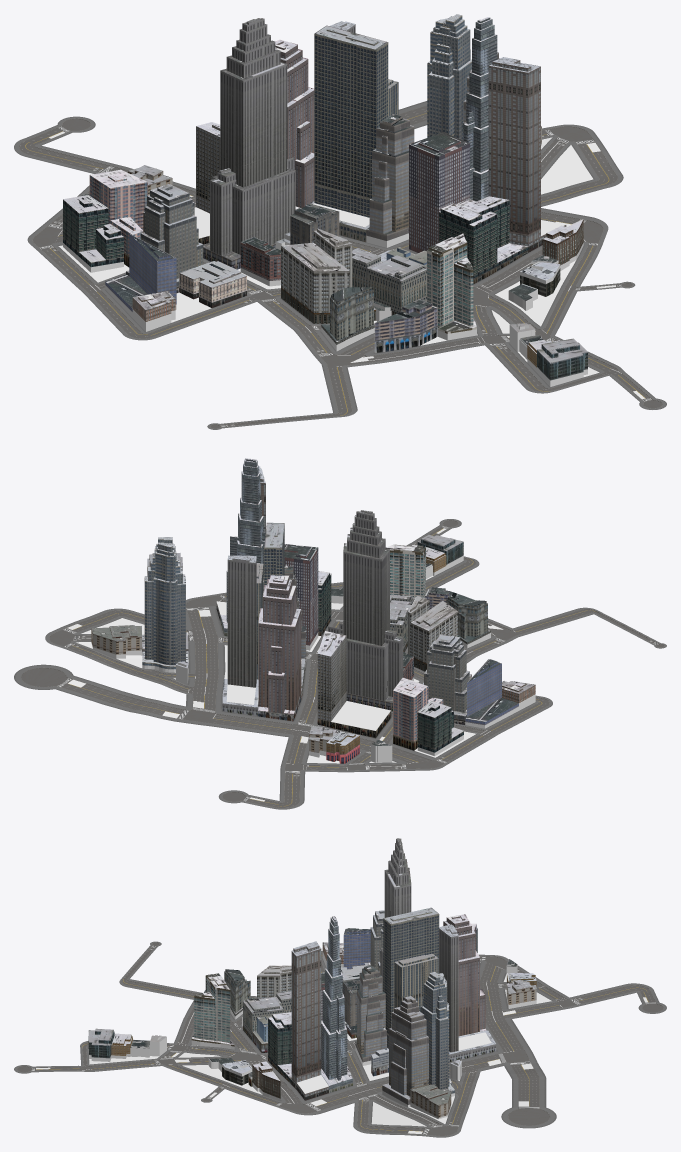
Rendered from city-world.glb.
The picture shows the model from 3 angles, top to bottom: view 1: azimuth 30°, elevation 25°; view 2: azimuth 150°, elevation 25°; view 3: azimuth 270°, elevation 25°; orthographic projection. The views are drawn at different scales.
Visible parts, largest first — view 1: CityEngineMaterial_31_m, CityEngineMaterial_3_m, CityEngineMaterial_98_m, CityEngineMaterial_1_m, CityEngineMaterial_106_m, CityEngineMaterial_108_m, CityEngineMaterial_115_m, CityEngineMaterial_74_m, CityEngineMaterial_71_m, CityEngineMaterial_112_m, CityEngineMaterial_94_m, CityEngineMaterial_49_m (+37 smaller); view 2: CityEngineMaterial_31_m, CityEngineMaterial_1_m, CityEngineMaterial_3_m, CityEngineMaterial_94_m, CityEngineMaterial_71_m, CityEngineMaterial_4_m, CityEngineMaterial_112_m, CityEngineMaterial_133_m, CityEngineMaterial_108_m, CityEngineMaterial_164_m, CityEngineMaterial_2_m, CityEngineMaterial_115_m (+22 smaller); view 3: CityEngineMaterial_1_m, CityEngineMaterial_3_m, CityEngineMaterial_74_m, CityEngineMaterial_106_m, CityEngineMaterial_31_m, CityEngineMaterial_112_m, CityEngineMaterial_4_m, CityEngineMaterial_98_m, CityEngineMaterial_94_m, CityEngineMaterial_71_m, CityEngineMaterial_79_m, CityEngineMaterial_2_m (+17 smaller).
Part boxes in pixels (x1,y1,x2,y2): CityEngineMaterial_31_m: (203,18,355,260); CityEngineMaterial_3_m: (14,101,666,429); CityEngineMaterial_98_m: (314,30,388,235); CityEngineMaterial_1_m: (19,106,648,424); CityEngineMaterial_106_m: (488,60,566,246); CityEngineMaterial_108_m: (63,197,528,278); CityEngineMaterial_115_m: (409,141,469,252); CityEngineMaterial_74_m: (366,53,498,240); CityEngineMaterial_71_m: (427,15,471,139); CityEngineMaterial_112_m: (462,18,497,201); CityEngineMaterial_94_m: (275,41,314,208); CityEngineMaterial_49_m: (281,229,352,312); CityEngineMaterial_31_m: (222,511,403,711); CityEngineMaterial_1_m: (63,527,645,807); CityEngineMaterial_3_m: (14,519,666,809); CityEngineMaterial_94_m: (258,576,301,713); CityEngineMaterial_71_m: (142,539,188,669); CityEngineMaterial_4_m: (21,520,663,801); CityEngineMaterial_112_m: (220,458,265,632); CityEngineMaterial_133_m: (424,636,469,720); CityEngineMaterial_108_m: (318,573,463,752); CityEngineMaterial_164_m: (317,636,346,721); CityEngineMaterial_2_m: (21,520,664,807); CityEngineMaterial_115_m: (284,548,318,645); CityEngineMaterial_1_m: (36,952,654,1133); CityEngineMaterial_3_m: (14,941,666,1137); CityEngineMaterial_74_m: (355,967,428,1104); CityEngineMaterial_106_m: (291,946,328,1096); CityEngineMaterial_31_m: (380,839,496,1058); CityEngineMaterial_112_m: (321,917,352,1089); CityEngineMaterial_4_m: (17,942,663,1135); CityEngineMaterial_98_m: (383,912,439,1048); CityEngineMaterial_94_m: (443,916,485,1036); CityEngineMaterial_71_m: (420,973,454,1093); CityEngineMaterial_79_m: (191,975,234,1046); CityEngineMaterial_2_m: (17,942,663,1135).
Size of the model in its own units: 80.05 by 31.58 by 106.
Materials: 100 (99 with a texture image).
